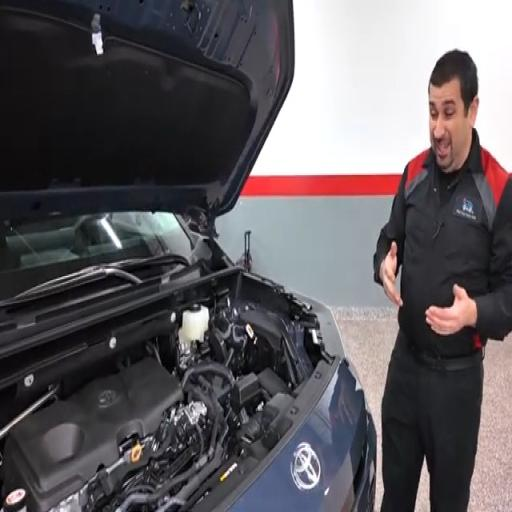emblem: (291, 443, 320, 490)
hood: (0, 0, 294, 217)
windshield: (0, 212, 193, 300)
